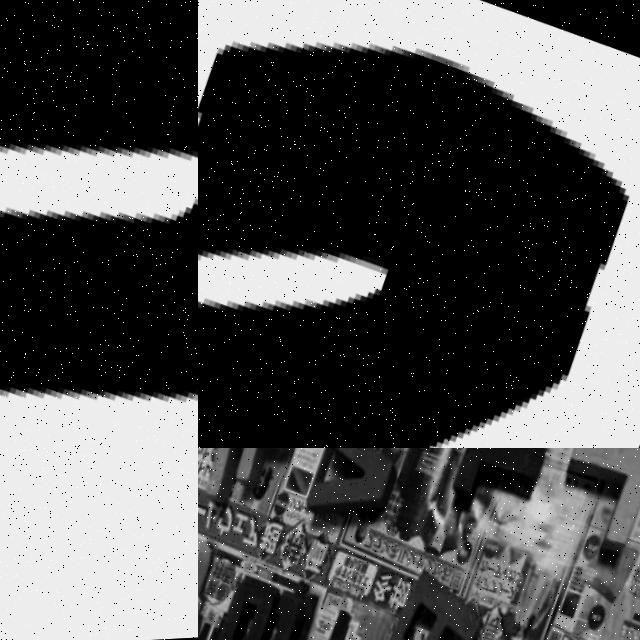F: (198, 448, 298, 525)
G: (0, 0, 198, 448)
L: (534, 448, 640, 572)
P: (369, 565, 495, 640)
Q: (198, 511, 221, 632)
S: (202, 577, 307, 640)
T: (440, 448, 562, 526)
V: (198, 0, 640, 448), (292, 448, 402, 533)
Y: (0, 448, 198, 640)
